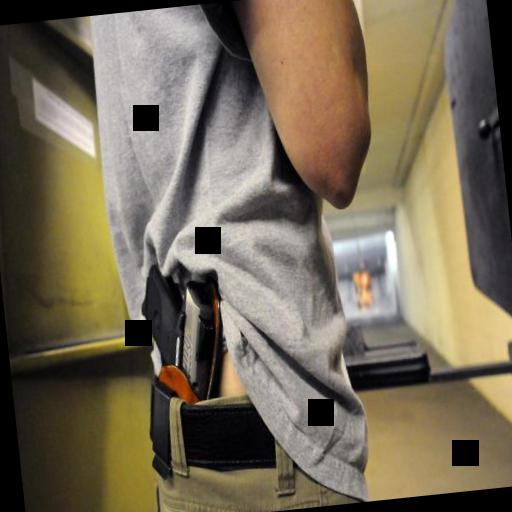Handgun: (126, 259, 224, 415)
